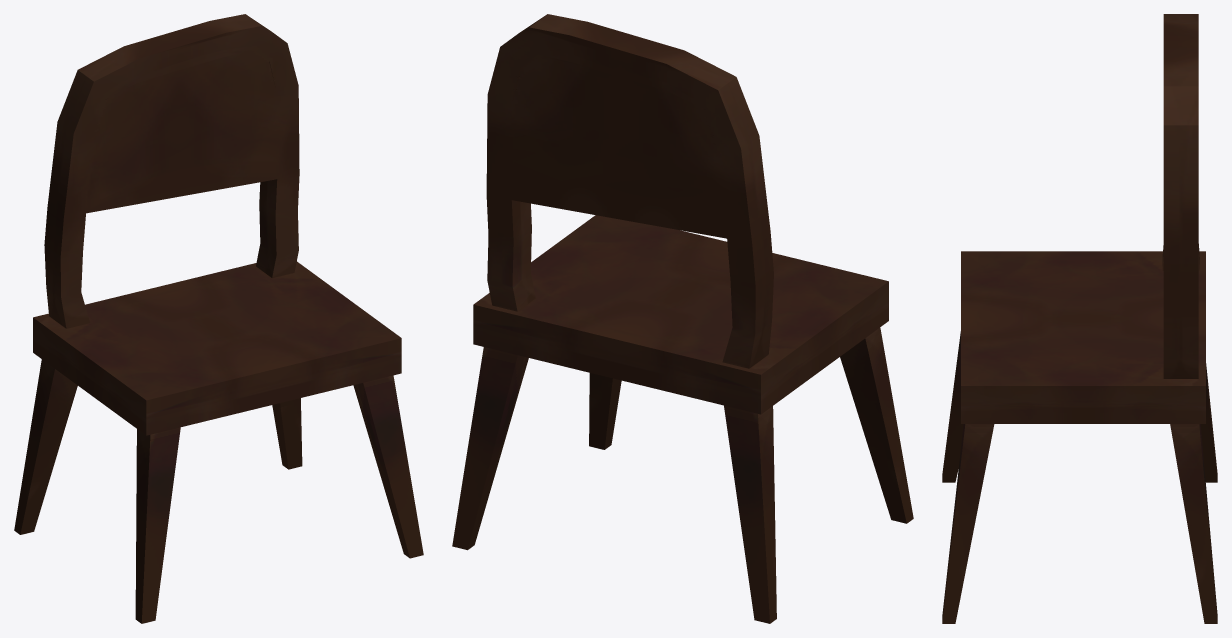
File: Chair.glb
The picture shows the model from 3 angles, left to right: view 1: azimuth 30°, elevation 25°; view 2: azimuth 150°, elevation 25°; view 3: azimuth 270°, elevation 25°; orthographic projection. The views are drawn at different scales.
Parts seen in each view (by area): view 1: Cube; view 2: Cube; view 3: Cube.
Boxes of the visible parts, left/top/right/bottom form: Cube: left=14, top=14, right=423, bottom=623; Cube: left=452, top=14, right=913, bottom=623; Cube: left=942, top=14, right=1217, bottom=623.
Bounding box in the file's own units: 1.12 × 1.78 × 0.8765.
1 material, 1 textured.
